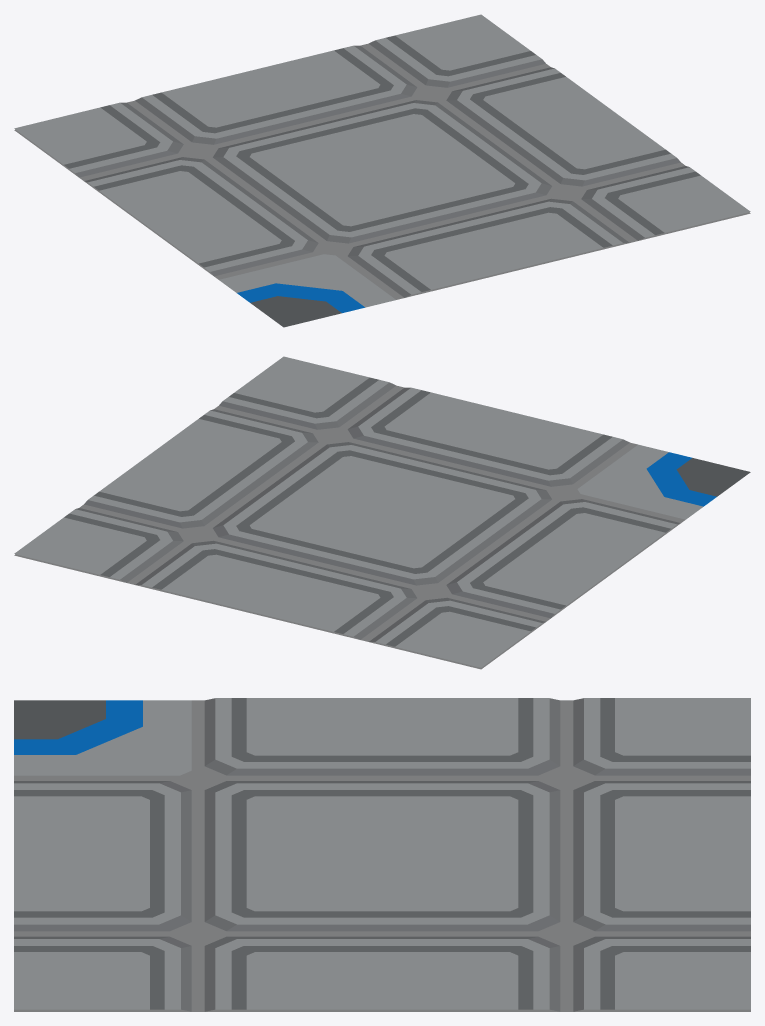
The model's file is Floor_type_B_034.fbx.
3 views of the same model, one above another, from view 1: azimuth 30°, elevation 25°; view 2: azimuth 150°, elevation 25°; view 3: azimuth 270°, elevation 25° (orthographic). The views are drawn at different scales.
Visible parts, largest first — view 1: Floor_type_B_034; view 2: Floor_type_B_034; view 3: Floor_type_B_034.
Boxes of the visible parts, box(x1,y1,x2,y2) form: Floor_type_B_034: box(14, 14, 750, 327); Floor_type_B_034: box(14, 356, 750, 669); Floor_type_B_034: box(14, 698, 750, 1011).
Size of the model in its own units: 400 by 400 by 1.34.
